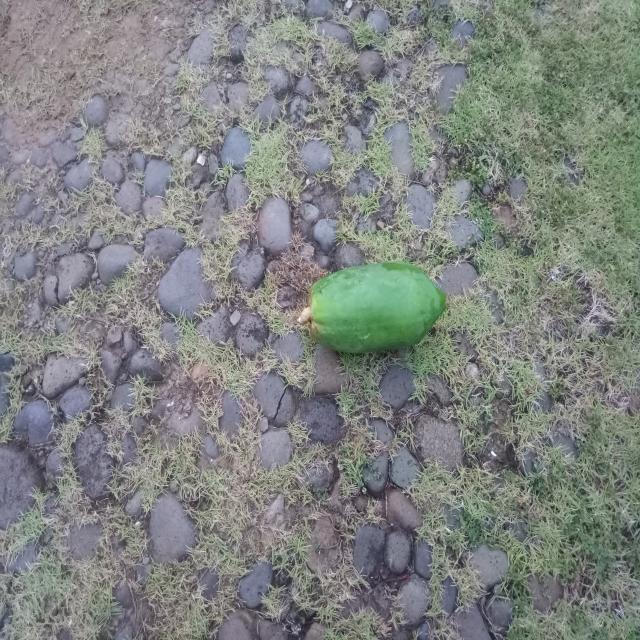Pepaya unrippen: (293, 269, 452, 354)
